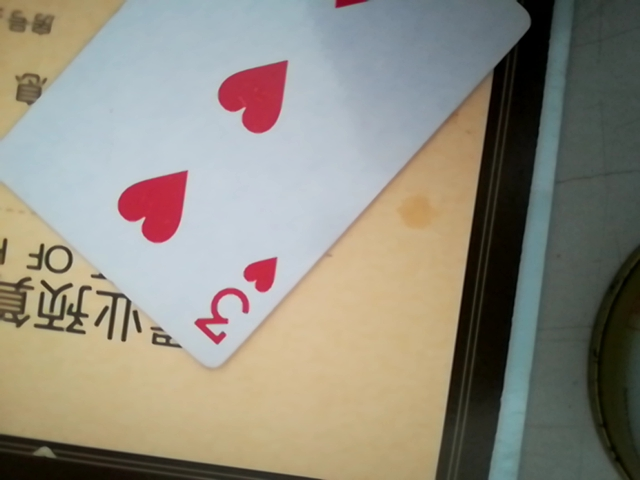hx 3: (5, 2, 562, 385)
